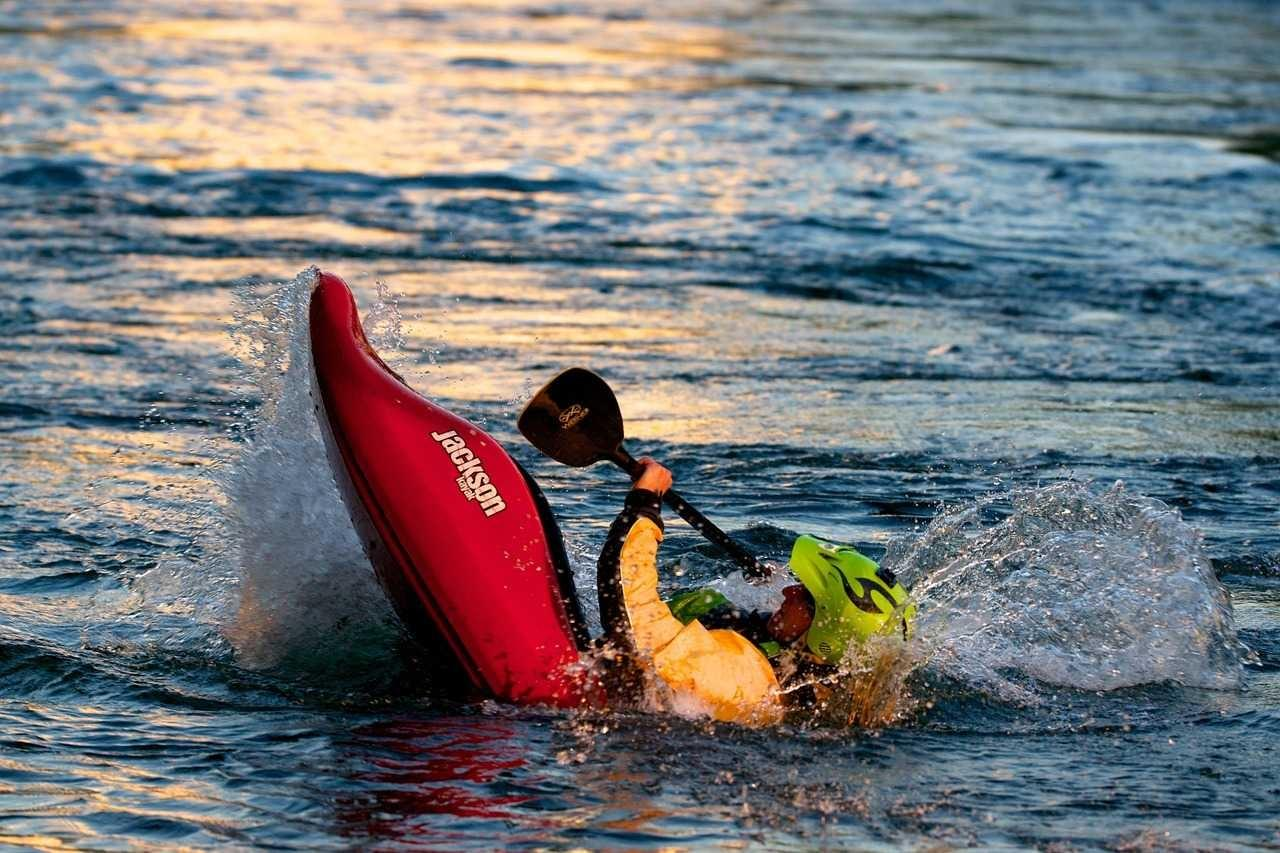kayak: (307, 265, 793, 728)
